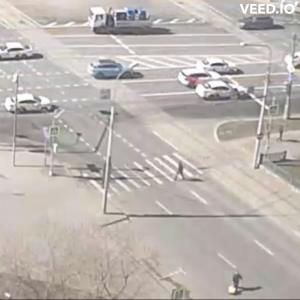car: (86, 3, 157, 36), (5, 94, 60, 116), (197, 81, 239, 102), (203, 60, 244, 78), (241, 17, 285, 33), (91, 60, 124, 81), (2, 44, 36, 63), (179, 71, 214, 89), (292, 52, 300, 70)
